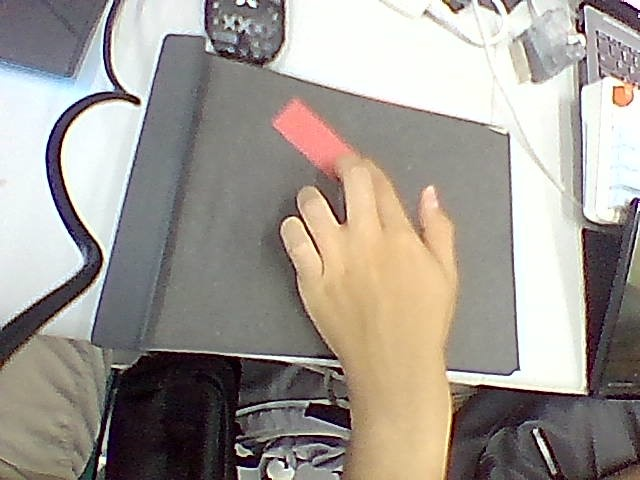card: (272, 98, 354, 176)
